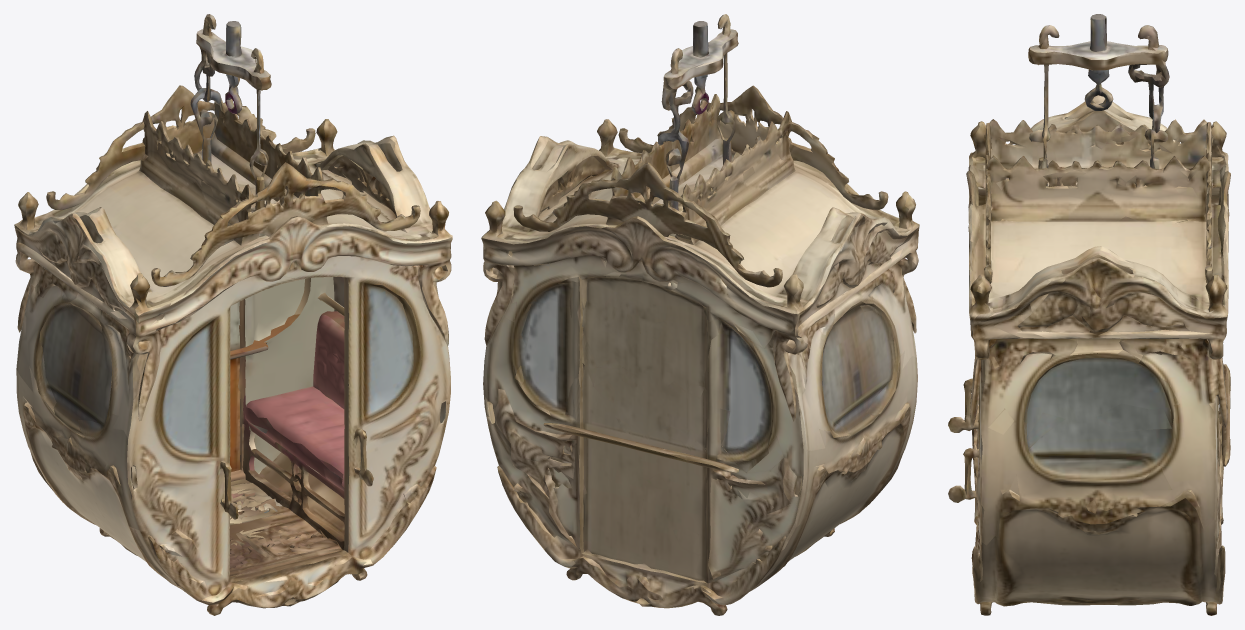
File: park-ferris-cabin.glb
3 renders of one model, left to right at view 1: azimuth 30°, elevation 25°; view 2: azimuth 150°, elevation 25°; view 3: azimuth 270°, elevation 25°, orthographic. The views are drawn at different scales.
Parts seen in each view (by area): view 1: geometry_0; view 2: geometry_0; view 3: geometry_0.
Part boxes in pixels (x1,y1,x2,y2): geometry_0: (14,14,452,615); geometry_0: (481,14,919,615); geometry_0: (948,14,1230,615).
Size of the model in its own units: 1.41 by 2.2 by 0.9925.
Materials: 1 (1 with a texture image).
